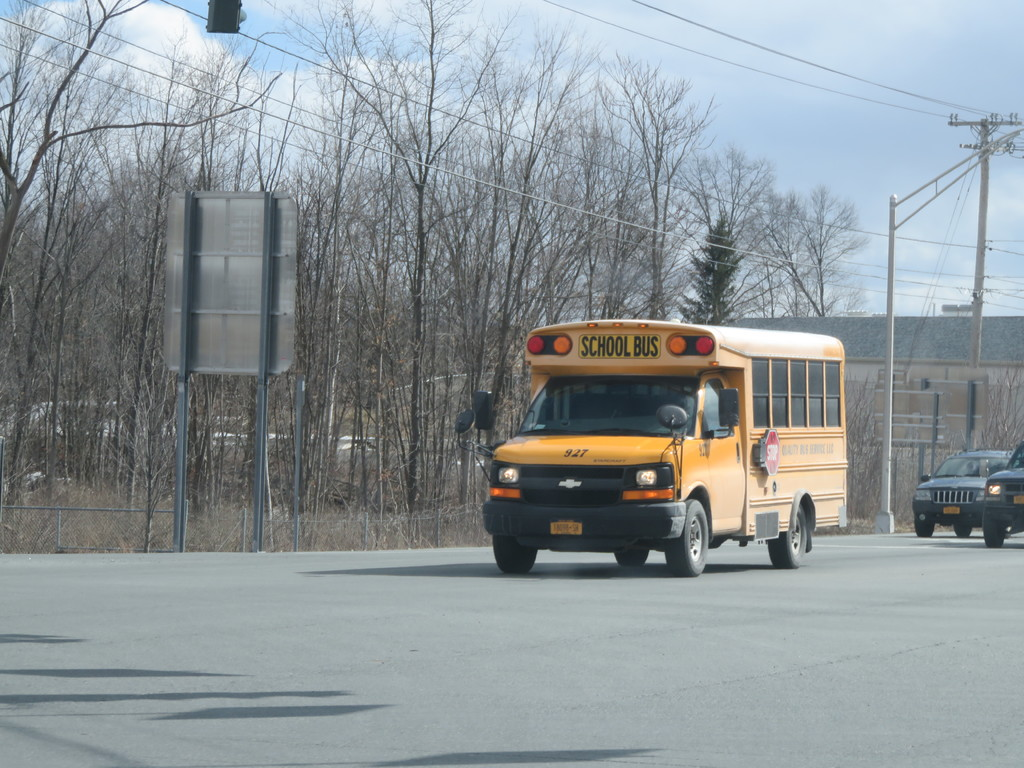mobil: (915, 447, 1009, 533)
